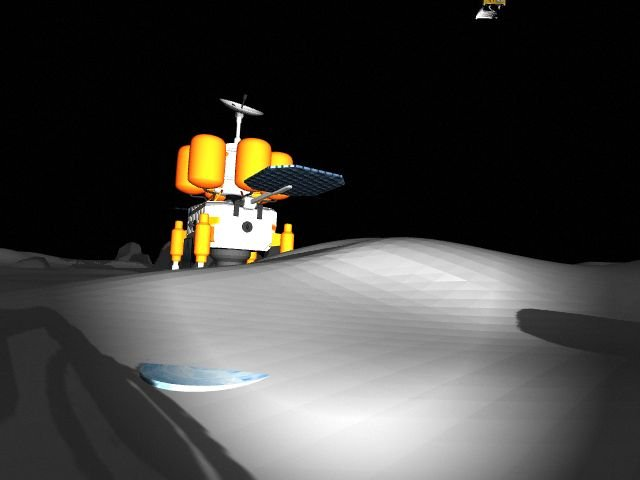homebase: (170, 92, 346, 273)
